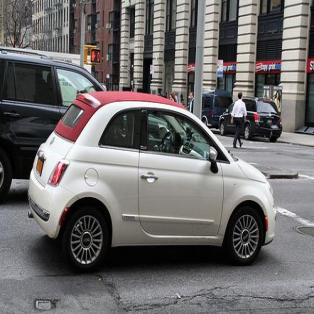Auto: (25, 90, 278, 274)
